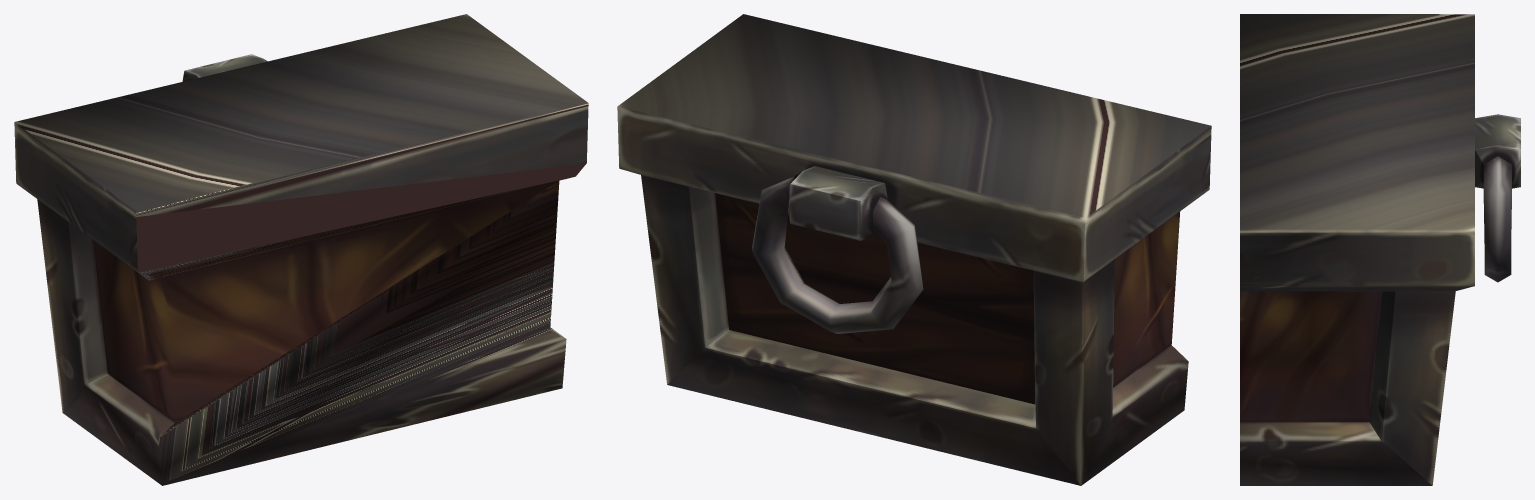
Rendered from chest_close6.fbx.
The picture shows the model from 3 angles, left to right: view 1: azimuth 30°, elevation 25°; view 2: azimuth 150°, elevation 25°; view 3: azimuth 270°, elevation 25°; orthographic projection. The views are drawn at different scales.
Parts seen in each view (by area): view 1: chest_close.002; view 2: chest_close.002; view 3: chest_close.002.
Part boxes in pixels (x1,y1,x2,y2): chest_close.002: (14, 14, 588, 485); chest_close.002: (617, 14, 1211, 485); chest_close.002: (1240, 14, 1520, 485).
Bounding box in the file's own units: 42.56 × 25.3 × 23.72.
